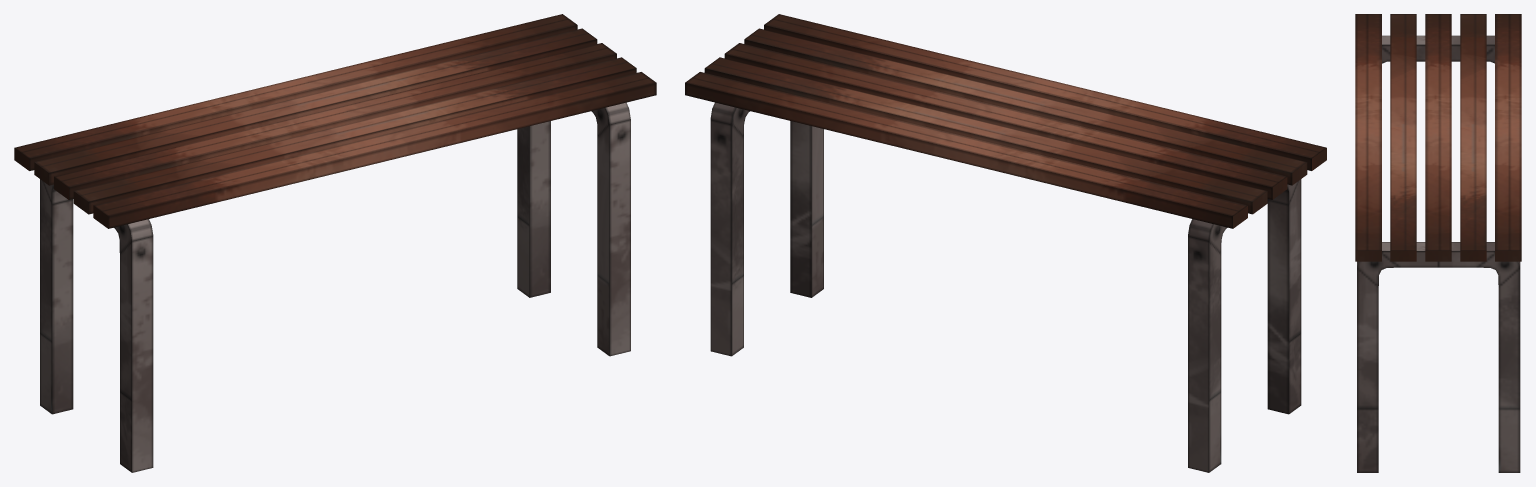
Rendered from Bench1Asset.fbx.
The picture shows the model from 3 angles, left to right: view 1: azimuth 30°, elevation 25°; view 2: azimuth 150°, elevation 25°; view 3: azimuth 270°, elevation 25°; orthographic projection. The views are drawn at different scales.
Parts seen in each view (by area): view 1: Bench1; view 2: Bench1; view 3: Bench1.
Part boxes in pixels (x1,y1,x2,y2): Bench1: [14, 14, 656, 472]; Bench1: [685, 14, 1326, 472]; Bench1: [1355, 14, 1521, 472].
Size of the model in its own units: 103 by 30.54 by 47.26.
